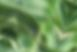Tomato mold leaf: (17, 0, 60, 23), (1, 34, 39, 52)
